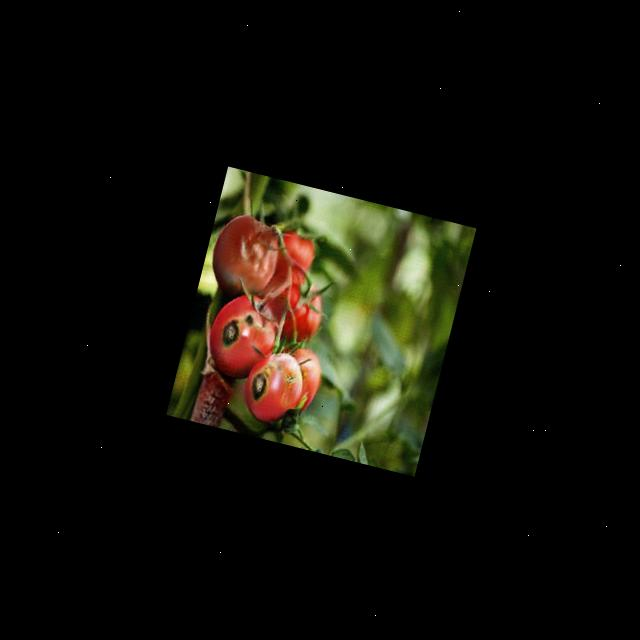tomato: (200, 284, 282, 381), (238, 344, 309, 424)
